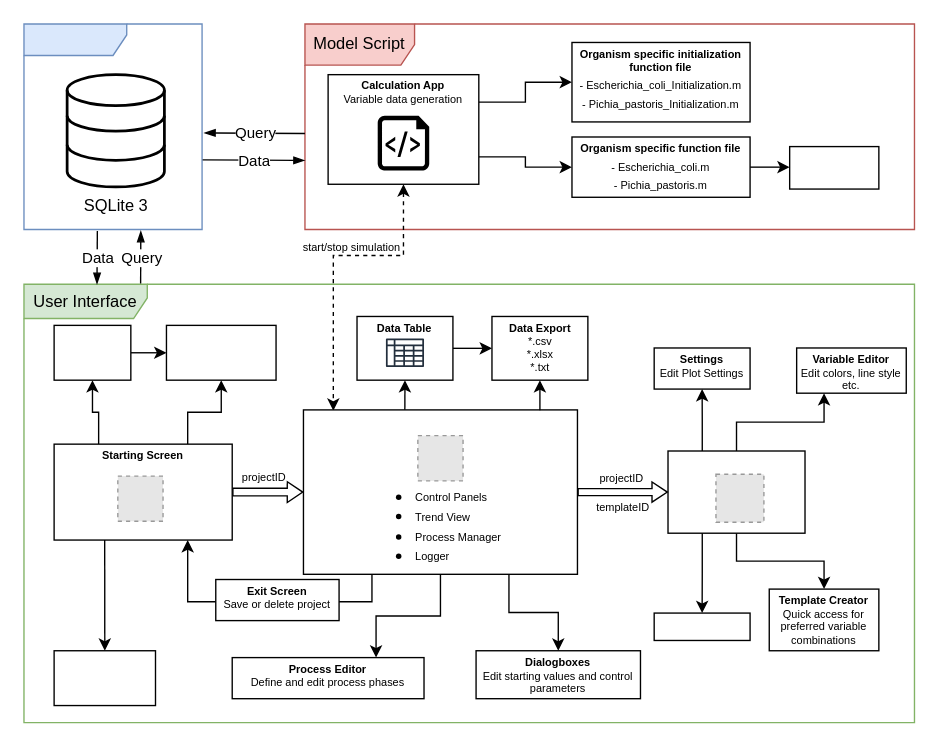
Image size: 938x747. Some labels were removed from this diagram. Grey dashed boxes stand in for pictures. The box of each missing label's shape, as (x1, y1, x2, y2) in pixels:
Control App: (302, 409, 577, 574)
Create Project Create a project based on a model: (165, 324, 276, 380)
Database: (23, 23, 202, 229)
Figure App: (667, 450, 805, 533)
Figure Export: (653, 612, 750, 640)
Load Project Open past project: (53, 324, 131, 380)
Model Manager Create and edit models: (53, 649, 155, 706)
ODE function files: (788, 145, 879, 189)
